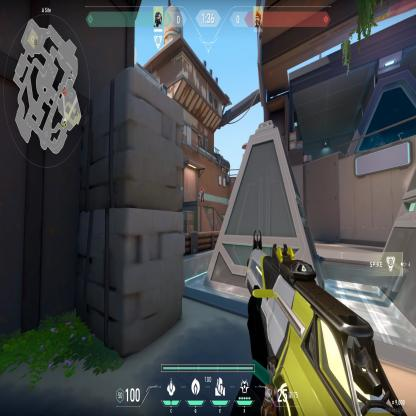enemy: (200, 185, 204, 203)
